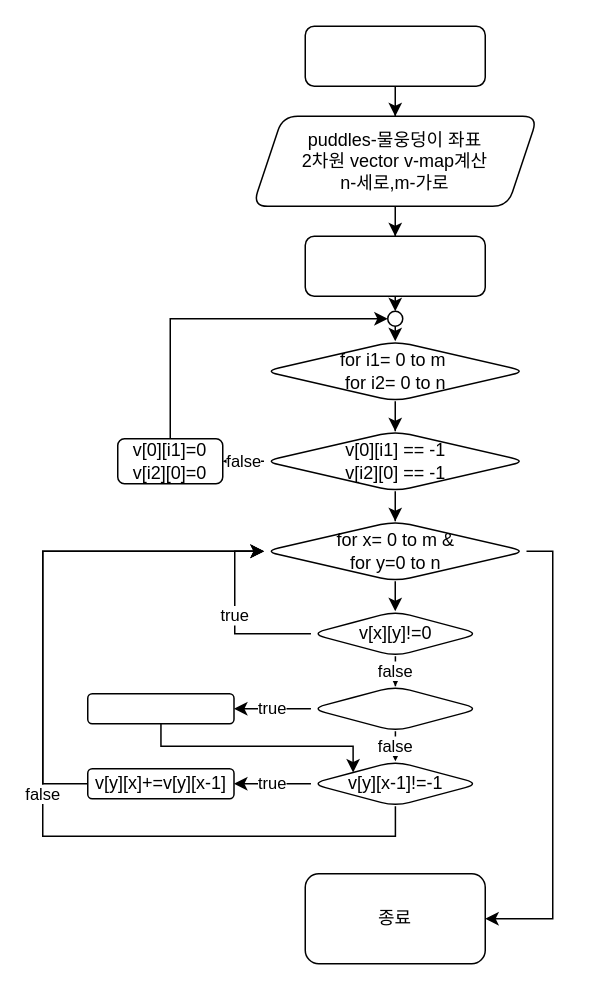
Image size: 591x990. Some labels were removed from this diagram. The box of each missing label's shape, as (x1, y1, x2, y2) in pixels:
v[y-1][x]!=-1: (309, 685, 480, 731)
v[y][x]+=v[y-1][x]: (86, 692, 234, 724)
vector v에 웅덩이 좌표 value -1로 초기화: (304, 235, 485, 296)
시작: (304, 25, 485, 86)
